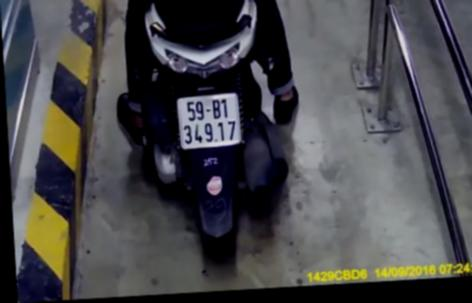License_Plate: (170, 89, 250, 155)
